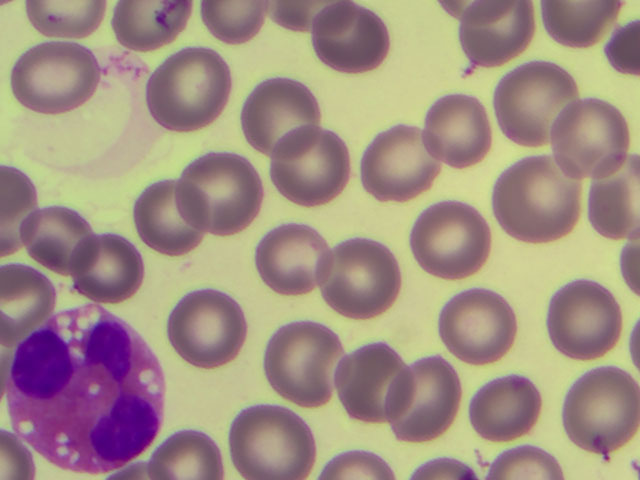RBC: (493, 154, 582, 246), (331, 340, 416, 427), (561, 364, 640, 457), (148, 49, 230, 134), (496, 67, 582, 145), (551, 97, 630, 181), (266, 324, 345, 407), (240, 82, 325, 158), (231, 404, 314, 480), (388, 355, 458, 445), (321, 240, 401, 318), (409, 205, 493, 279), (21, 203, 101, 280), (170, 290, 247, 369), (271, 128, 349, 205), (179, 158, 254, 238), (252, 224, 334, 297), (420, 91, 490, 172), (552, 278, 620, 359), (68, 234, 150, 301), (438, 294, 516, 363), (365, 129, 438, 201), (134, 181, 207, 252), (12, 45, 96, 105), (314, 3, 385, 73), (587, 153, 640, 240), (466, 376, 539, 437), (461, 1, 528, 62), (112, 1, 189, 53), (1, 162, 40, 256), (1, 262, 54, 328), (152, 440, 228, 480), (483, 444, 564, 480), (198, 1, 267, 43), (263, 1, 350, 32), (542, 1, 606, 43), (27, 1, 101, 32), (322, 449, 393, 480), (610, 21, 640, 78), (1, 433, 36, 480), (409, 458, 479, 480), (617, 226, 640, 291), (443, 1, 512, 22)
WBC: (20, 317, 163, 466)
